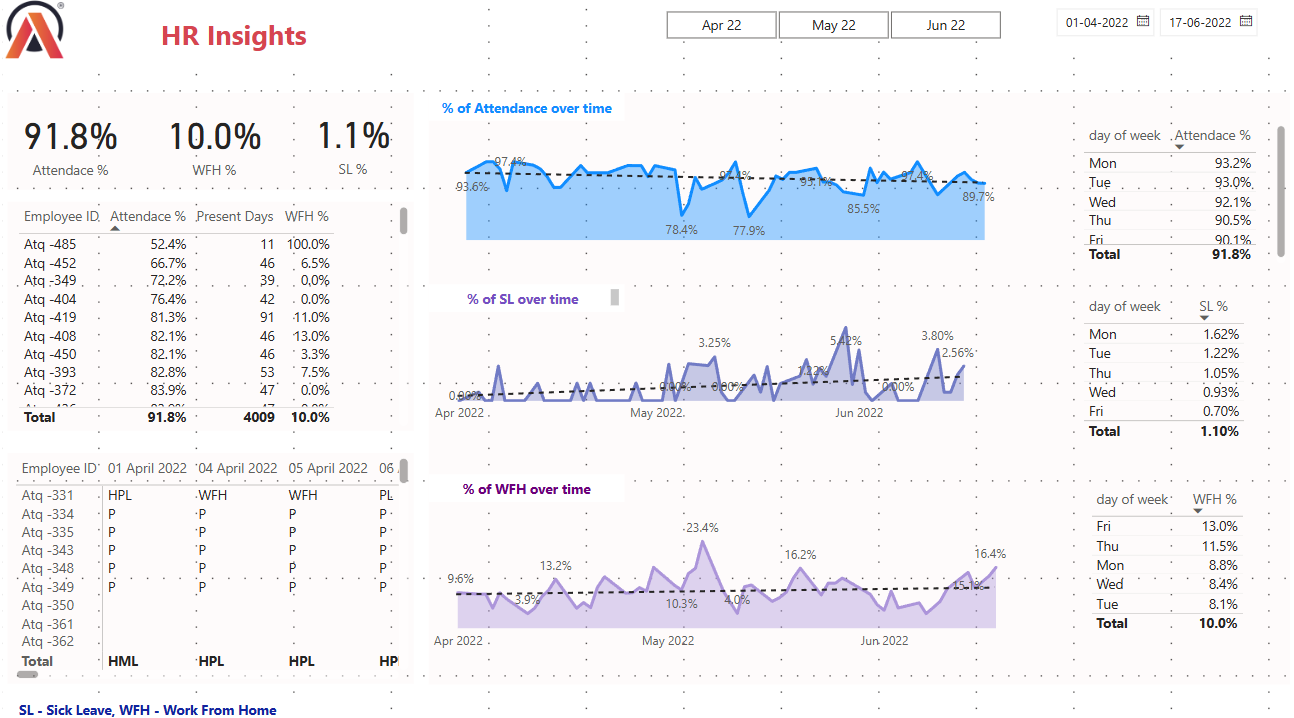

The page's visual inventory and layout, read from the dashboard file:
{"tool":"powerbi","page":{"name":"Presence Insights","canvas":[1280,720],"ordinal":0},"visuals":[{"type":"textbox","box":[7.8,205.6,399.9,225.5],"z":0},{"type":"textbox","box":[7.8,453.3,399.8,227.6],"z":1000},{"type":"textbox","box":[422.3,97.9,848.1,582.3],"z":2000},{"type":"textbox","box":[7.8,98,399.9,95.4],"z":3000},{"type":"tableEx","fields":{"Values":["Final Data.Employee ID","Measures (2).Attendace %","Measures (2).Present Days","Measures (2).WFH %"]},"box":[12.6,205.2,394.9,225.7],"z":4000},{"type":"slicer","fields":{"Values":["Final Data.Date"]},"box":[1027.3,5.2,252.7,46.3],"z":5000},{"type":"slicer","fields":{"Values":["Final Data.MMM YY"]},"box":[630.4,10.5,379.5,35.8],"z":6000},{"type":"areaChart","fields":{"Category":["Final Data.MMM YY","Final Data.Date"],"Y":["Measures (2).WFH %"]},"box":[420.7,502.3,589,153.5],"z":7000},{"type":"areaChart","fields":{"Category":["Final Data.WeekNo","Final Data.Date"],"Y":["Measures (2).Attendace %"]},"box":[444.1,144.9,540.4,103.2],"z":8000},{"type":"card","fields":{"Values":["Measures (2).Attendace %"]},"box":[7.8,98,124,96.3],"z":9000},{"type":"card","fields":{"Values":["Measures (2).WFH %"]},"box":[141.4,98,138.8,96.3],"z":10000},{"type":"areaChart","fields":{"Category":["Final Data.MMM YY","Final Data.Date"],"Y":["Measures (2).SL %"]},"box":[422.5,307.1,556,124],"z":11000},{"type":"image","box":[0,0,70,71],"z":12000},{"type":"card","fields":{"Values":["Measures (2).SL %"]},"box":[286.3,97.2,121.4,96.3],"z":13000},{"type":"textbox","box":[70.3,0,320.1,71.1],"z":14000},{"type":"textbox","box":[422.4,98.2,192.5,27.5],"z":15000},{"type":"textbox","box":[422.5,286.3,192.6,26.9],"z":16000},{"type":"textbox","box":[422.1,473.7,192.6,27.2],"z":17000},{"type":"pivotTable","fields":{"Rows":["Final Data.Employee ID"],"Columns":["Final Data.Date"],"Values":["Min(Final Data.Value)"]},"box":[11.7,453.3,395.9,227.6],"z":18000},{"type":"textbox","box":[13.6,691.6,289.8,28.2],"z":19000},{"type":"tableEx","fields":{"Values":["Final Data.day of week","Measures (2).Attendace %"]},"box":[1060.9,125.8,209.9,145.7],"z":20000},{"type":"tableEx","fields":{"Values":["Final Data.day of week","Measures (2).SL %"]},"box":[1060.9,294.1,191.7,167.4],"z":21000},{"type":"tableEx","fields":{"Values":["Final Data.day of week","Measures (2).WFH %"]},"box":[1068.7,483.2,170,167.4],"z":22000}]}

Visuals, with their boxes in screenshot pixels (x1, y1, x2, y2), scaled from the page's 1280x720 canvas onto the 1294x718 screenshot:
textbox: [8, 205, 412, 430]
textbox: [8, 452, 412, 679]
textbox: [427, 98, 1284, 678]
textbox: [8, 98, 412, 193]
tableEx - Final Data.Employee ID x Measures (2).Attendace %: [13, 205, 412, 430]
slicer - Final Data.Date: [1039, 5, 1293, 51]
slicer - Final Data.MMM YY: [637, 10, 1021, 46]
areaChart - Final Data.MMM YY x Final Data.Date: [425, 501, 1021, 654]
areaChart - Final Data.WeekNo x Final Data.Date: [449, 144, 995, 247]
card - Measures (2).Attendace %: [8, 98, 133, 194]
card - Measures (2).WFH %: [143, 98, 283, 194]
areaChart - Final Data.MMM YY x Final Data.Date: [427, 306, 989, 430]
image: [0, 0, 71, 71]
card - Measures (2).SL %: [289, 97, 412, 193]
textbox: [71, 0, 395, 71]
textbox: [427, 98, 622, 125]
textbox: [427, 286, 622, 312]
textbox: [427, 472, 621, 500]
pivotTable - Final Data.Employee ID x Final Data.Date: [12, 452, 412, 679]
textbox: [14, 690, 307, 717]
tableEx - Final Data.day of week x Measures (2).Attendace %: [1073, 125, 1285, 271]
tableEx - Final Data.day of week x Measures (2).SL %: [1073, 293, 1266, 460]
tableEx - Final Data.day of week x Measures (2).WFH %: [1080, 482, 1252, 649]
